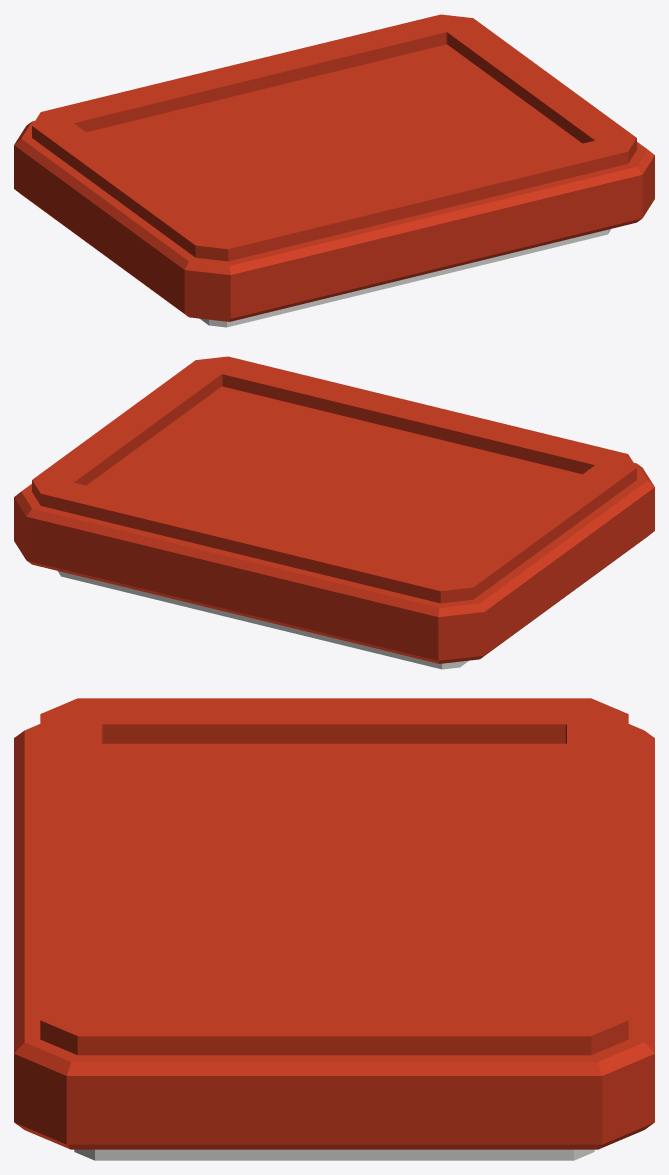
The model's file is SM_Cook_CoolerBox_Lid_01.fbx.
3 renders of one model, top to bottom at view 1: azimuth 30°, elevation 25°; view 2: azimuth 150°, elevation 25°; view 3: azimuth 270°, elevation 25°, orthographic. The views are drawn at different scales.
Parts seen in each view (by area): view 1: SM_Cook_CoolerBox_Lid_01; view 2: SM_Cook_CoolerBox_Lid_01; view 3: SM_Cook_CoolerBox_Lid_01.
Boxes of the visible parts, left/top/right/bottom form: SM_Cook_CoolerBox_Lid_01: left=14, top=14, right=654, bottom=327; SM_Cook_CoolerBox_Lid_01: left=14, top=356, right=654, bottom=669; SM_Cook_CoolerBox_Lid_01: left=14, top=698, right=654, bottom=1160.
Bounding box in the file's own units: 0.484 × 0.087 × 0.364.
1 material, 1 textured.
